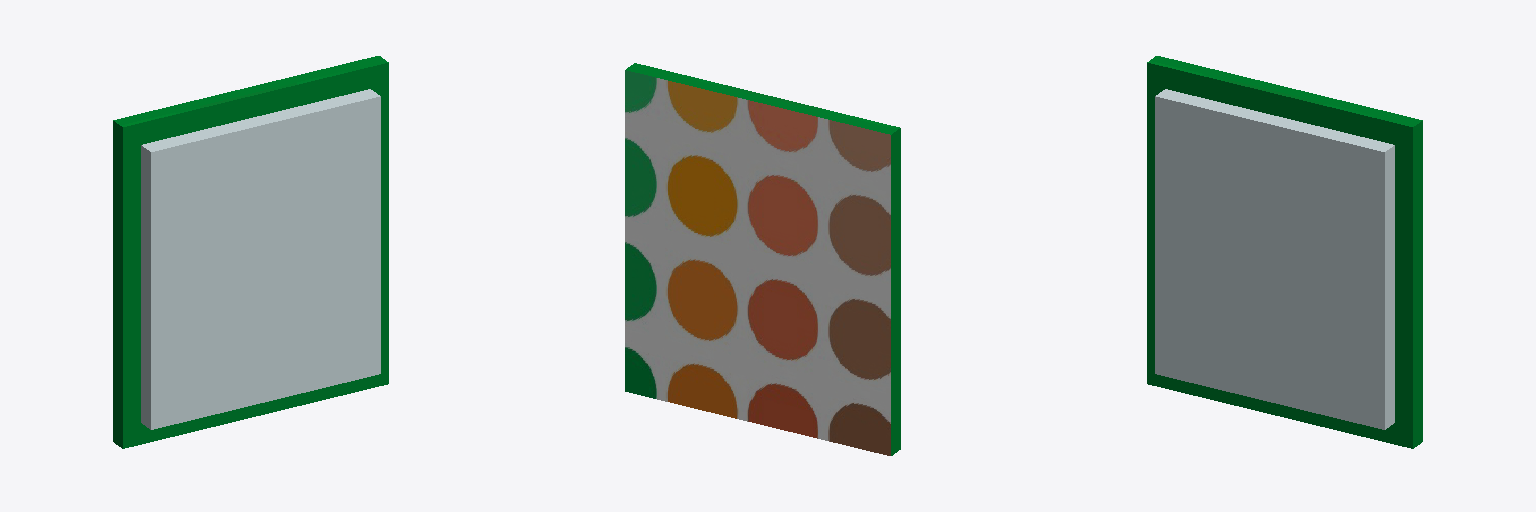
3 renders of one model, left to right at view 1: azimuth 30°, elevation 25°; view 2: azimuth 150°, elevation 25°; view 3: azimuth 330°, elevation 25°, orthographic.
Visible parts, largest first — view 1: CPU_Cube.002; view 2: CPU_Cube.002; view 3: CPU_Cube.002.
Boxes of the visible parts, <box> form: CPU_Cube.002: <box>113,56,388,448</box>; CPU_Cube.002: <box>625,63,900,455</box>; CPU_Cube.002: <box>1147,56,1422,448</box>.
Size of the model in its own units: 1.06 by 1.23 by 0.1372.
1 materials, 1 textured.